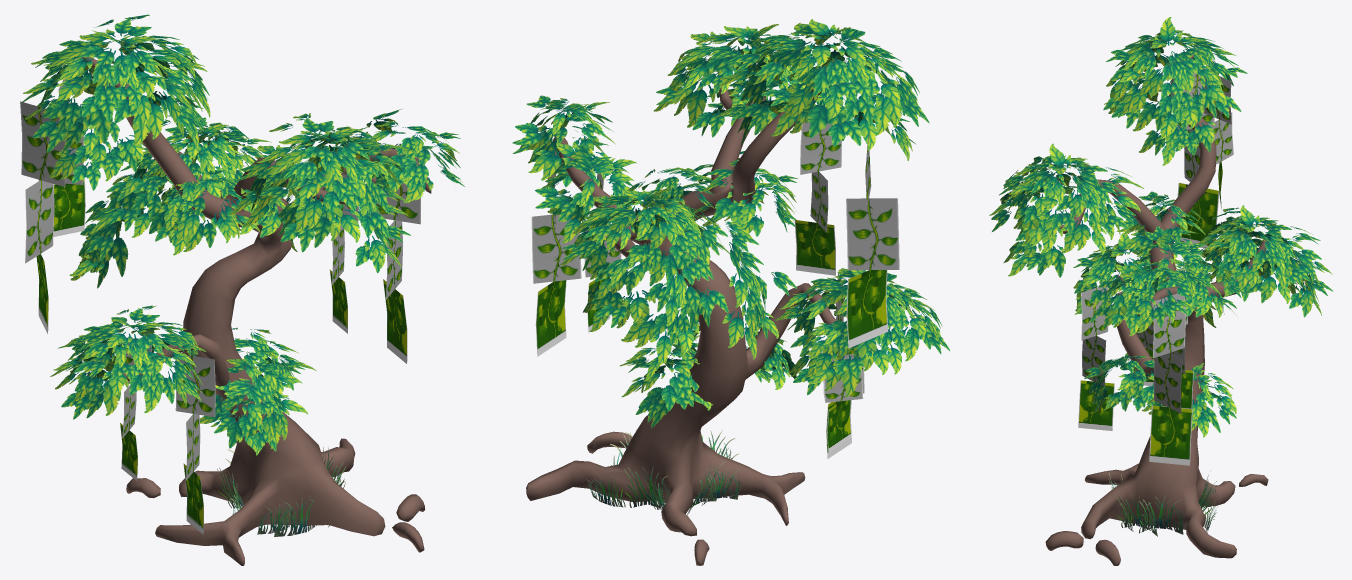
The model's file is SM_Tree1.fbx.
The picture shows the model from 3 angles, left to right: view 1: azimuth 30°, elevation 25°; view 2: azimuth 150°, elevation 25°; view 3: azimuth 270°, elevation 25°; orthographic projection. The views are drawn at different scales.
Visible parts, largest first — view 1: Tree1Mesh; view 2: Tree1Mesh; view 3: Tree1Mesh.
Boxes of the visible parts, box(x1,y1,x2,y2) form: Tree1Mesh: box(20, 14, 464, 565); Tree1Mesh: box(512, 19, 949, 565); Tree1Mesh: box(989, 17, 1333, 565).
Size of the model in its own units: 981 by 1176 by 867.
